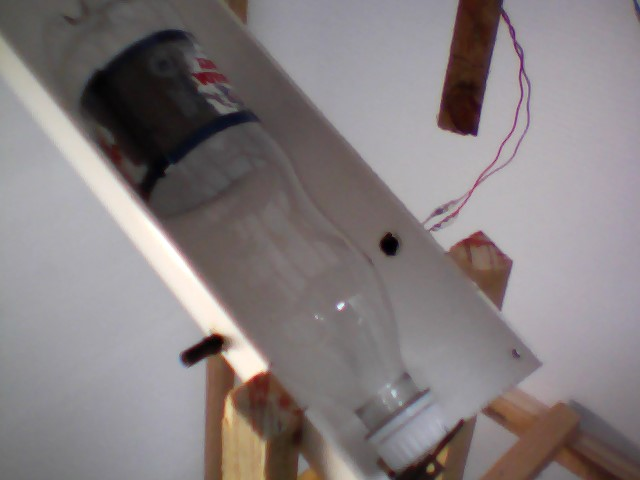plastico: (30, 1, 467, 475)
